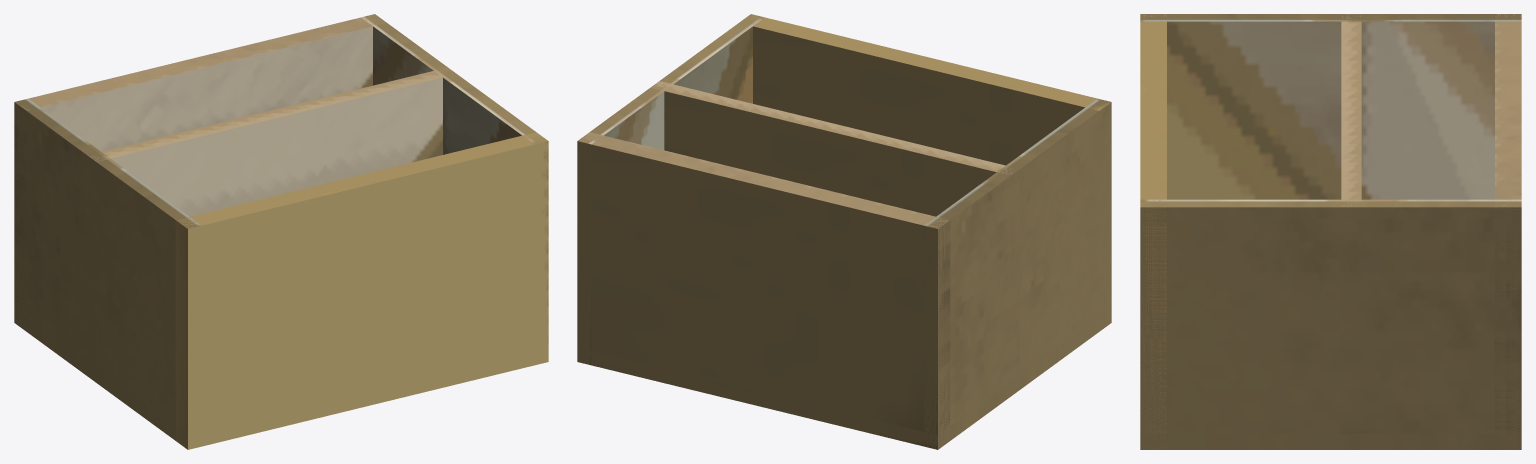
File: pz_g016_shop_generic_shop_low_shelves.obj
3 views of the same model, side by side, from view 1: azimuth 30°, elevation 25°; view 2: azimuth 150°, elevation 25°; view 3: azimuth 270°, elevation 25° (orthographic). The views are drawn at different scales.
Visible parts, largest first — view 1: physical_component_5_z+, physical_component_1_x-, physical_component_4_z+, physical_component_3_z+, physical_component_0_z+, physical_component_2_x-, physical_component_5_y+, physical_component_3_y+, physical_component_4_y+, physical_component_1_z+, physical_component_0_x-, physical_component_5_x- (+5 smaller); view 2: physical_component_3_z-, physical_component_1_x-, physical_component_5_z-, physical_component_4_z-, physical_component_0_z-, physical_component_2_x-, physical_component_3_y+, physical_component_5_y+, physical_component_4_y+, physical_component_2_z-, physical_component_1_z-, physical_component_3_x- (+4 smaller); view 3: physical_component_2_x+, physical_component_1_x+, physical_component_0_x+, physical_component_5_y+, physical_component_3_y+, physical_component_4_y+, physical_component_3_x+, physical_component_2_y+, physical_component_5_x+, physical_component_1_y+, physical_component_4_x+.
Boxes of the visible parts, box(x1,y1,x2,y2) form: physical_component_5_z+: box(188, 141, 548, 449); physical_component_1_x-: box(14, 102, 187, 449); physical_component_4_z+: box(111, 77, 442, 216); physical_component_3_z+: box(41, 26, 372, 151); physical_component_0_z+: box(188, 347, 548, 449); physical_component_2_x-: box(373, 26, 521, 154); physical_component_5_y+: box(177, 132, 547, 228); physical_component_3_y+: box(15, 14, 384, 109); physical_component_4_y+: box(89, 68, 452, 160); physical_component_1_z+: box(188, 225, 201, 448); physical_component_0_x-: box(14, 309, 187, 449); physical_component_5_x-: box(175, 220, 187, 448); physical_component_3_z-: box(577, 142, 937, 449); physical_component_1_x-: box(938, 102, 1111, 447); physical_component_5_z-: box(753, 26, 1084, 165); physical_component_4_z-: box(664, 91, 996, 216); physical_component_0_z-: box(577, 347, 937, 449); physical_component_2_x-: box(604, 26, 752, 150); physical_component_3_y+: box(579, 132, 947, 228); physical_component_5_y+: box(743, 14, 1110, 110); physical_component_4_y+: box(651, 81, 1013, 174); physical_component_2_z-: box(577, 141, 591, 365); physical_component_1_z-: box(924, 225, 937, 449); physical_component_3_x-: box(938, 220, 950, 448); physical_component_2_x+: box(1140, 207, 1521, 449); physical_component_1_x+: box(1167, 21, 1494, 199); physical_component_0_x+: box(1140, 433, 1521, 449); physical_component_5_y+: box(1140, 14, 1166, 206); physical_component_3_y+: box(1495, 14, 1521, 207); physical_component_4_y+: box(1341, 14, 1361, 206); physical_component_3_x+: box(1495, 207, 1521, 449); physical_component_2_y+: box(1140, 199, 1521, 207); physical_component_5_x+: box(1140, 207, 1166, 449); physical_component_1_y+: box(1140, 14, 1521, 21); physical_component_4_x+: box(1341, 207, 1361, 449).
Size of the model in its own units: 1.02 by 0.6 by 0.8548.
Materials: 1 (1 with a texture image).
